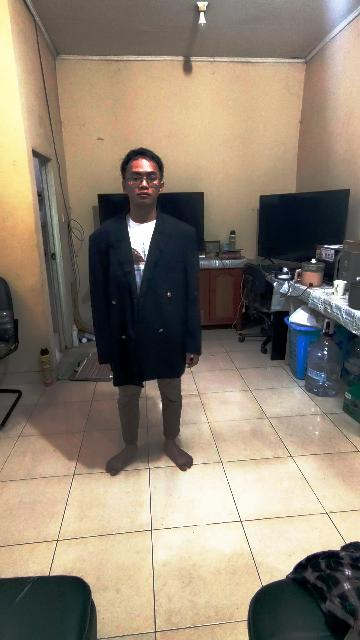berdiri: (94, 150, 195, 476)
